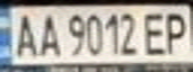0: (84, 9, 106, 56)
1: (103, 9, 121, 56)
2: (118, 8, 142, 56)
9: (63, 9, 87, 57)
A: (9, 9, 39, 58), (33, 9, 63, 58)
E: (139, 8, 172, 56)
P: (160, 8, 193, 55)
